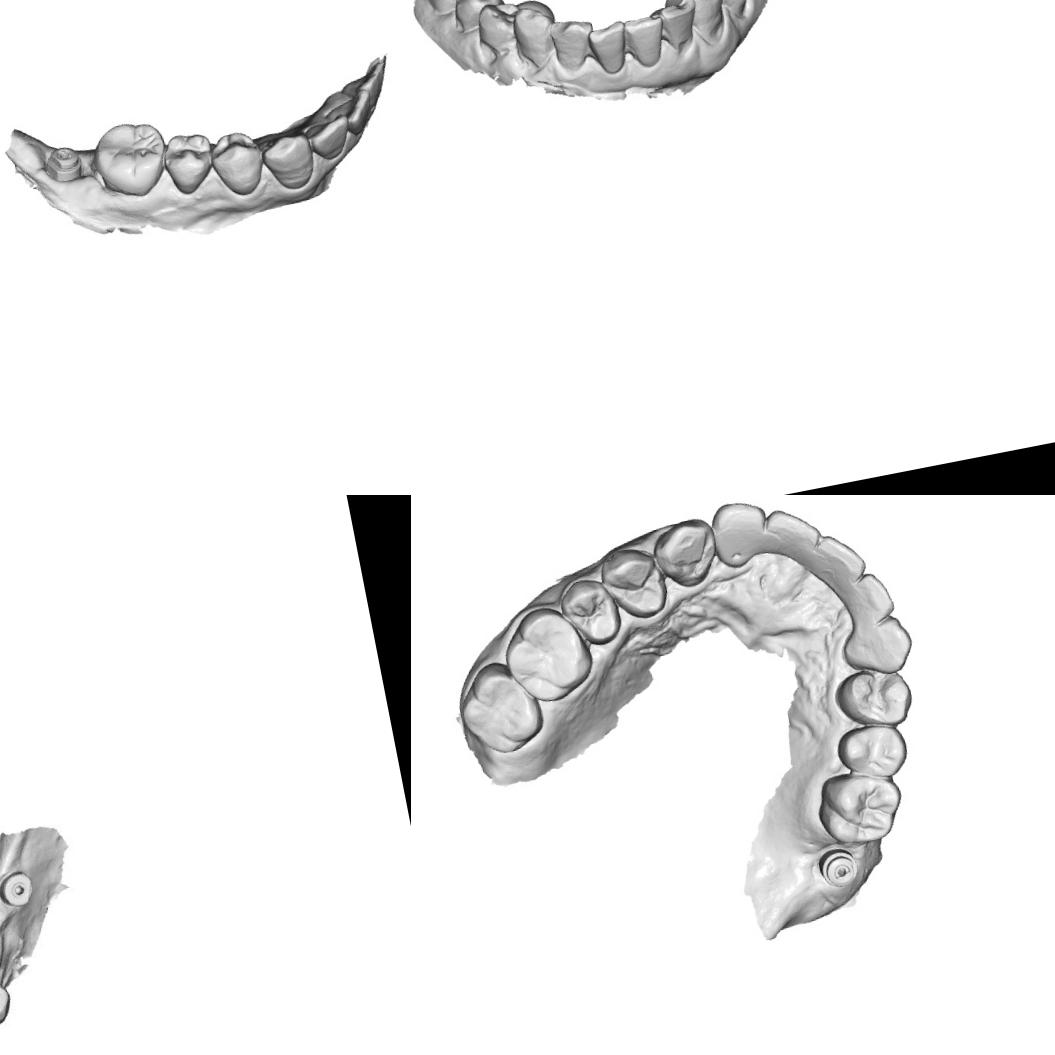canine: (644, 511, 722, 594), (835, 611, 920, 683), (257, 128, 318, 194), (507, 0, 560, 68), (685, 0, 736, 50)
implant: (40, 142, 86, 186), (0, 870, 37, 908)
implant_minus: (811, 839, 868, 894)
incisor: (701, 495, 775, 574), (796, 525, 870, 595), (760, 500, 828, 570), (828, 567, 898, 629), (544, 11, 602, 77), (618, 7, 670, 72), (334, 60, 392, 117), (582, 14, 633, 78), (319, 86, 377, 142), (300, 112, 354, 164), (655, 0, 700, 55)
molar: (494, 597, 600, 711), (448, 651, 552, 762), (810, 762, 908, 852), (86, 115, 174, 204)
premolar: (593, 538, 674, 628), (826, 658, 918, 736), (827, 714, 914, 788), (556, 570, 626, 654), (206, 126, 269, 201), (158, 126, 219, 198), (472, 0, 526, 52), (447, 0, 508, 35), (701, 0, 755, 21)
